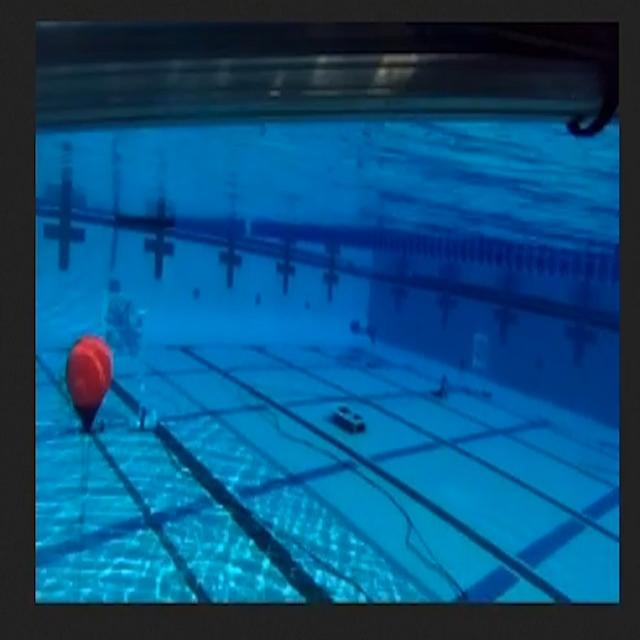Buoy: (55, 311, 125, 457)
